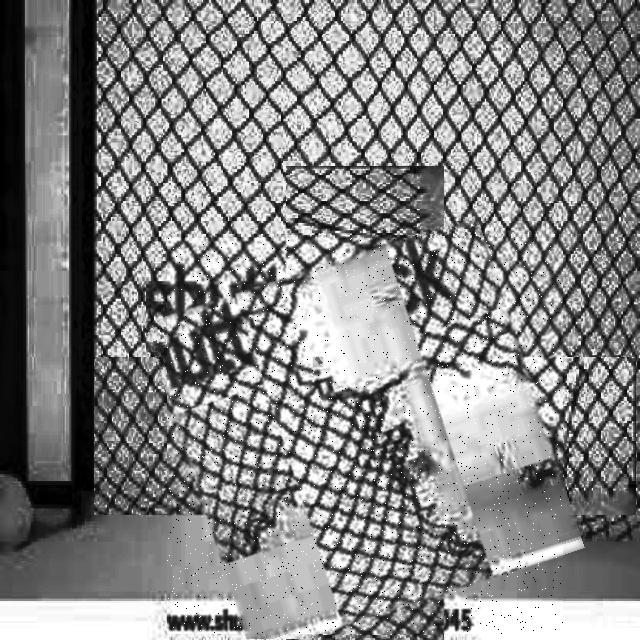anomaly-fence: (167, 238, 563, 634), (313, 357, 323, 367)
